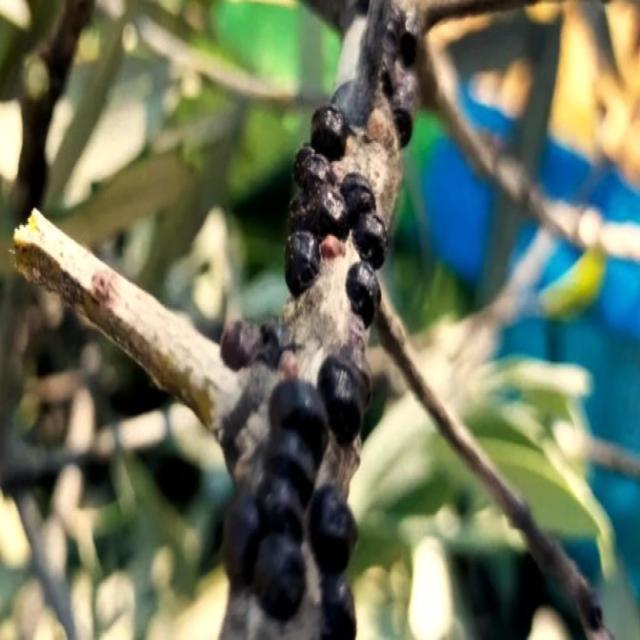BlackScale: (216, 307, 375, 639), (284, 102, 388, 328)
